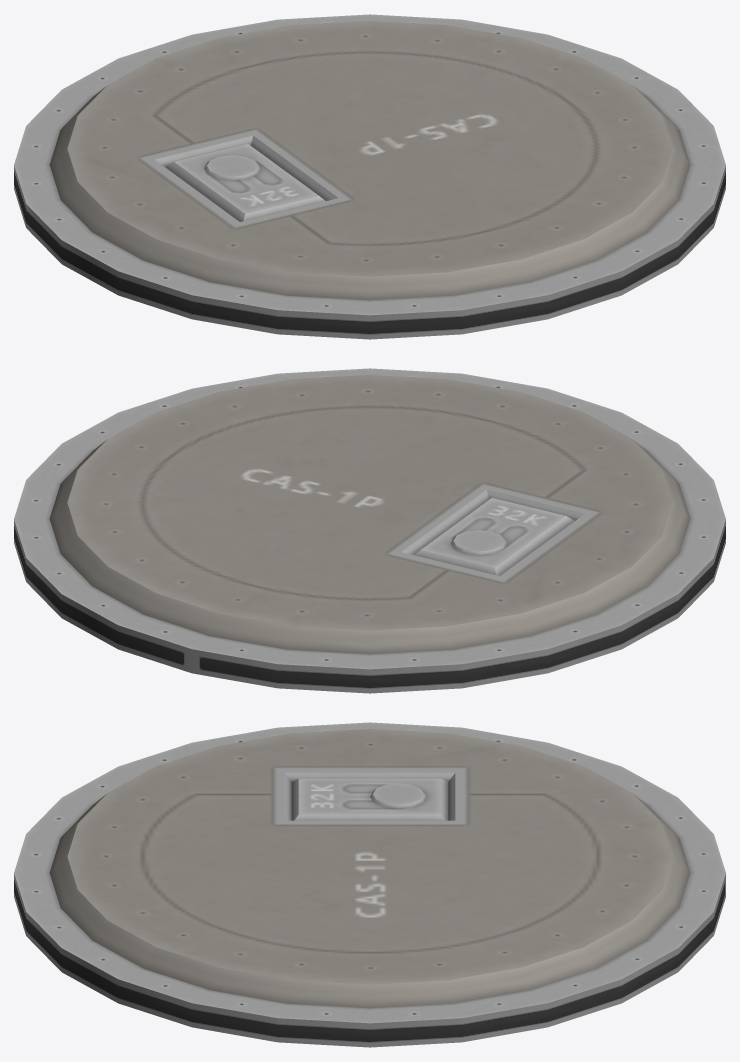
Rendered from Castor_Control_1_P.obj.
3 renders of one model, top to bottom at view 1: azimuth 30°, elevation 25°; view 2: azimuth 150°, elevation 25°; view 3: azimuth 270°, elevation 25°, orthographic.
Visible parts, largest first — view 1: Castor_Control_1_P; view 2: Castor_Control_1_P; view 3: Castor_Control_1_P.
Part boxes in pixels (x1,y1,x2,y2): Castor_Control_1_P: (14,14,725,339); Castor_Control_1_P: (14,368,725,693); Castor_Control_1_P: (14,722,725,1047).
Bounding box in the file's own units: 1.25 × 0.1144 × 1.25.
